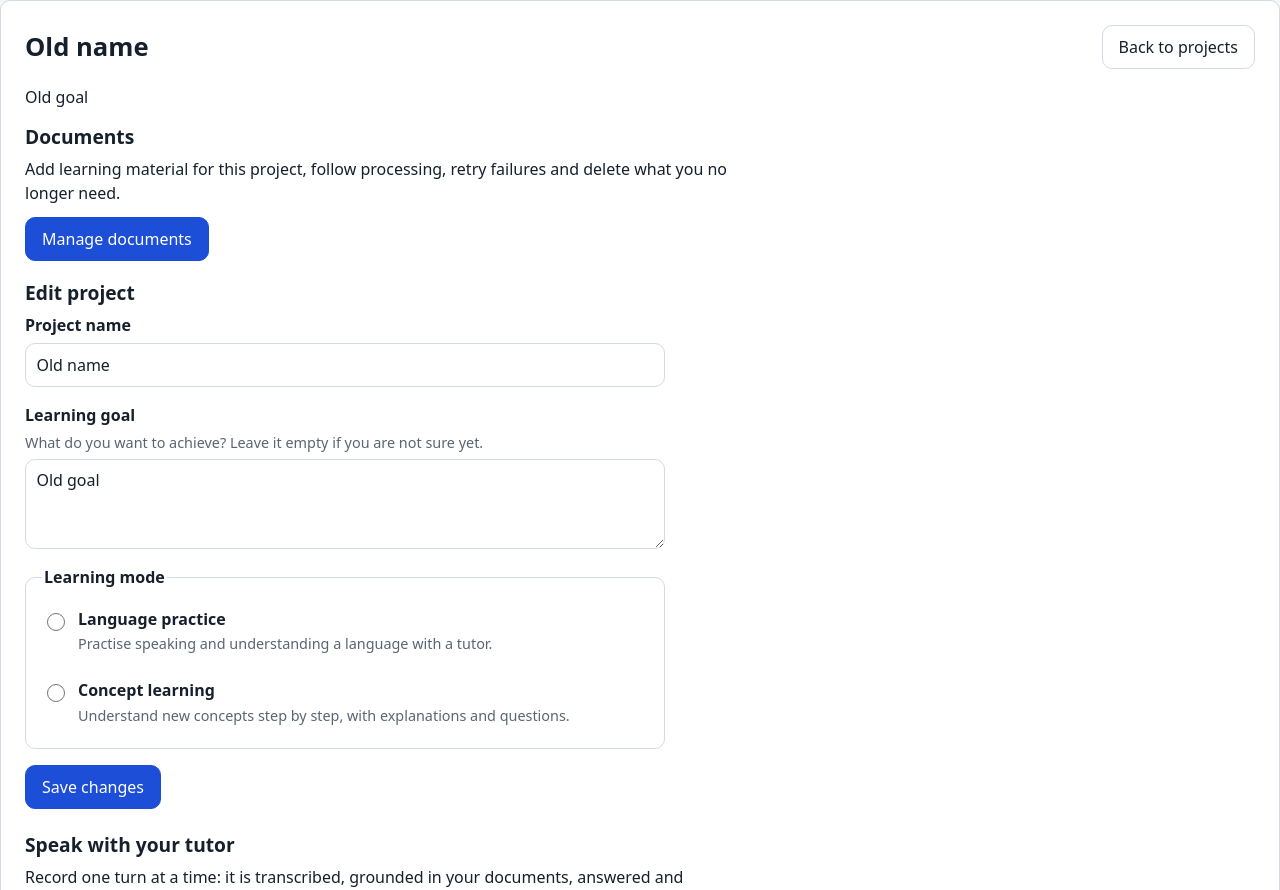
Scenario: saving edits name and goal with confirmation of success
The width and height of the screenshot is (1280, 890).
Expected: the heading "Old name" is shown, [25, 31, 149, 63]
Replace the text in the field labelled "Project name" with "New name" at (345, 365), box [25, 343, 665, 387]
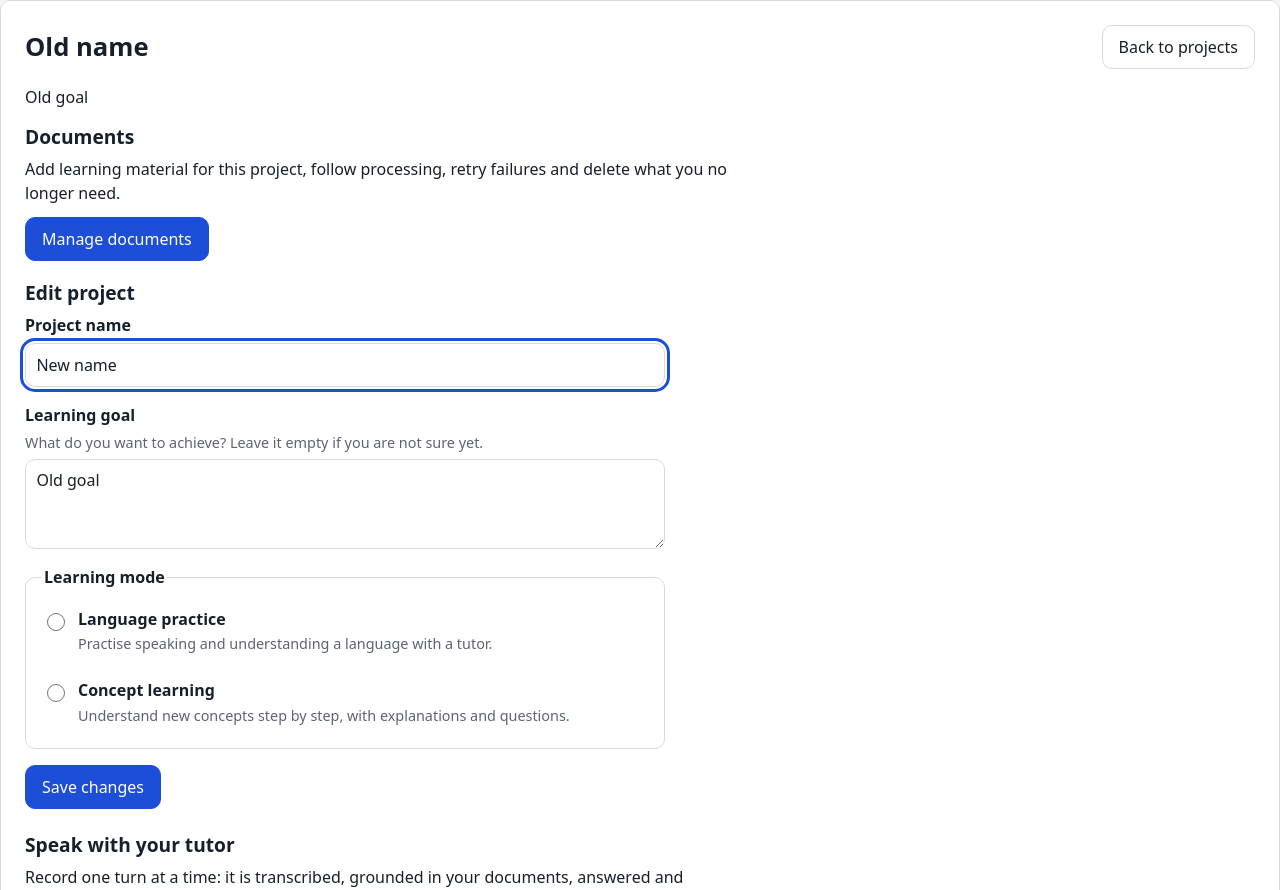
Clear the text box labelled "Learning goal" at (345, 504), box [25, 459, 665, 549]
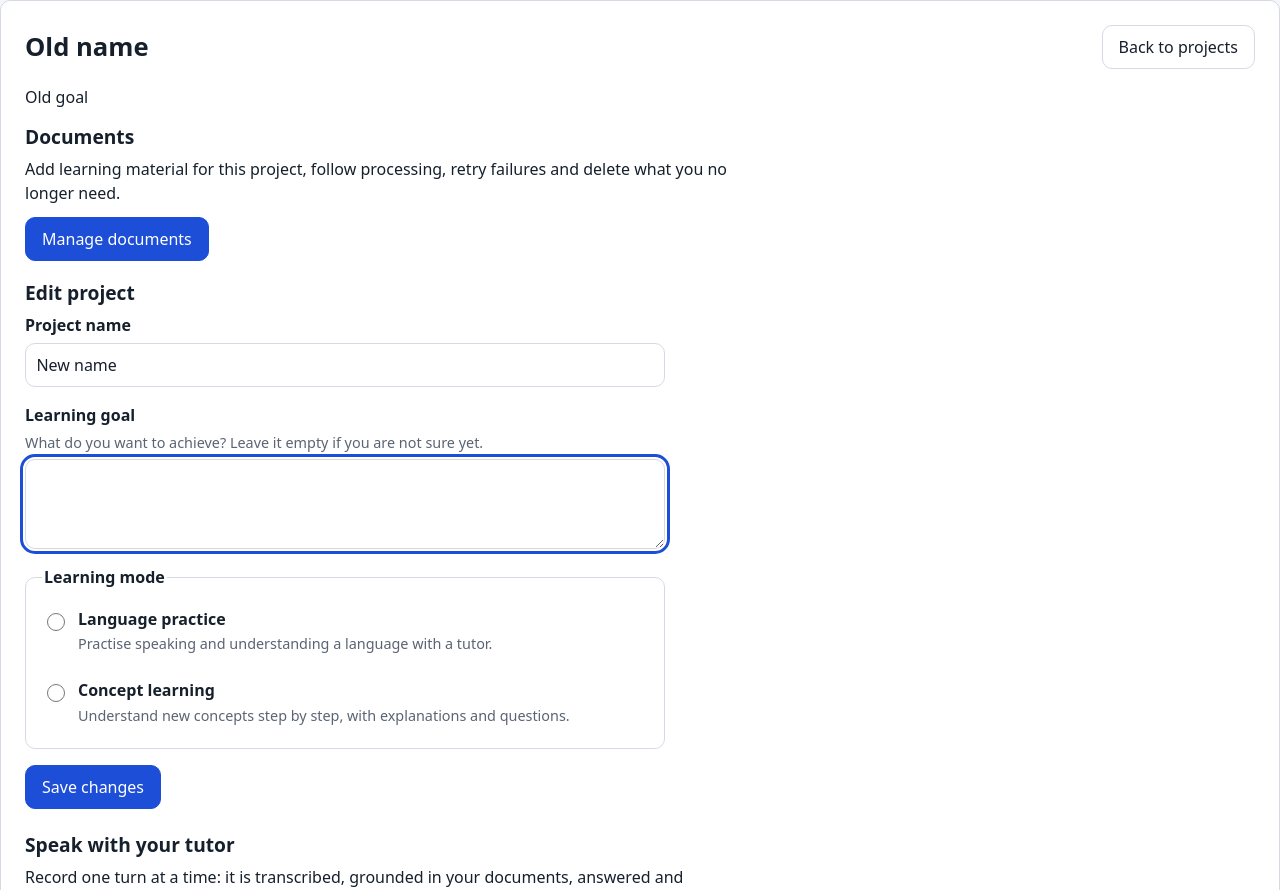
Click the button "Save changes" at (93, 787), box [25, 765, 161, 809]
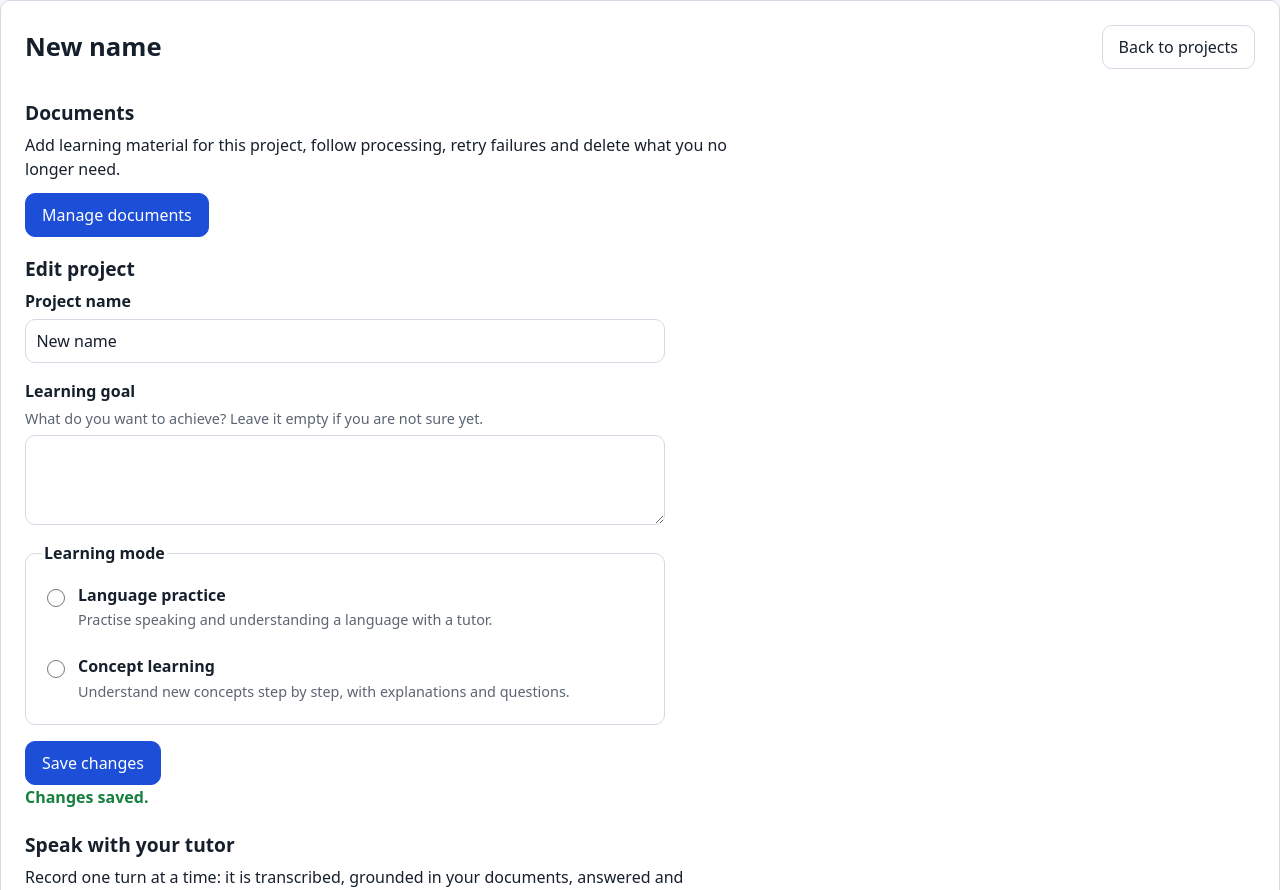
Now the heading "New name" is shown, box [25, 31, 162, 63]
Now the text "Old goal" is gone
